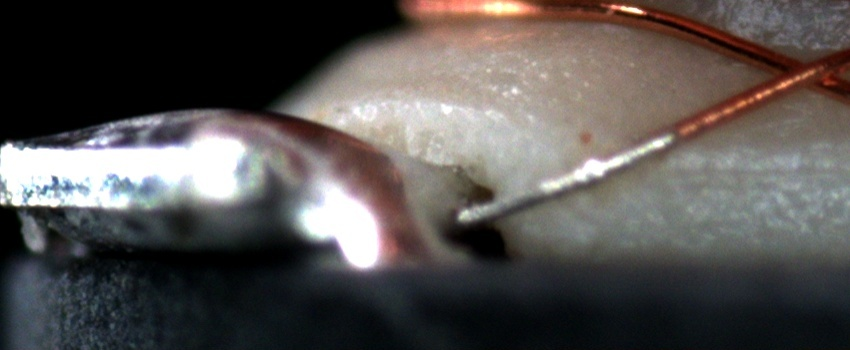CL: (748, 42, 842, 101)
DL: (645, 140, 850, 204)
TS: (452, 130, 678, 227)
